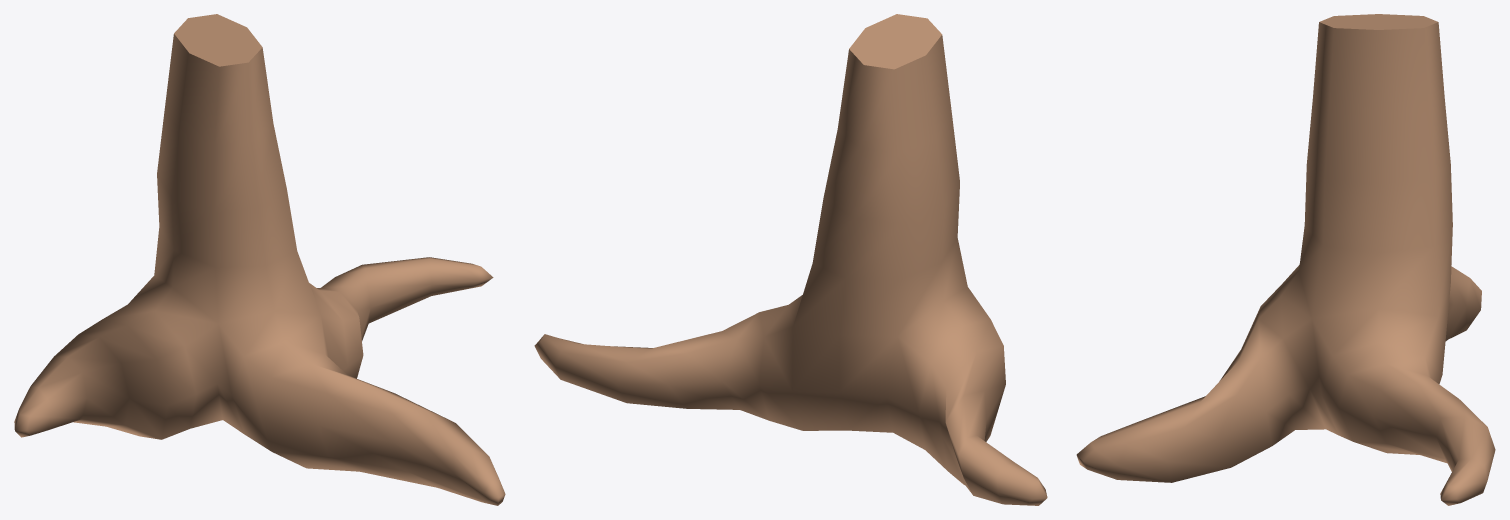
File: Smaller_stump.fbx
The picture shows the model from 3 angles, left to right: view 1: azimuth 30°, elevation 25°; view 2: azimuth 150°, elevation 25°; view 3: azimuth 270°, elevation 25°; orthographic projection. The views are drawn at different scales.
Parts seen in each view (by area): view 1: Treegran_attempt:pCube3; view 2: Treegran_attempt:pCube3; view 3: Treegran_attempt:pCube3.
Boxes of the visible parts, x1,y1,x2,y2 form: Treegran_attempt:pCube3: [14, 14, 505, 505]; Treegran_attempt:pCube3: [534, 14, 1047, 505]; Treegran_attempt:pCube3: [1076, 14, 1495, 505].
Size of the model in its own units: 194 by 157 by 148.
